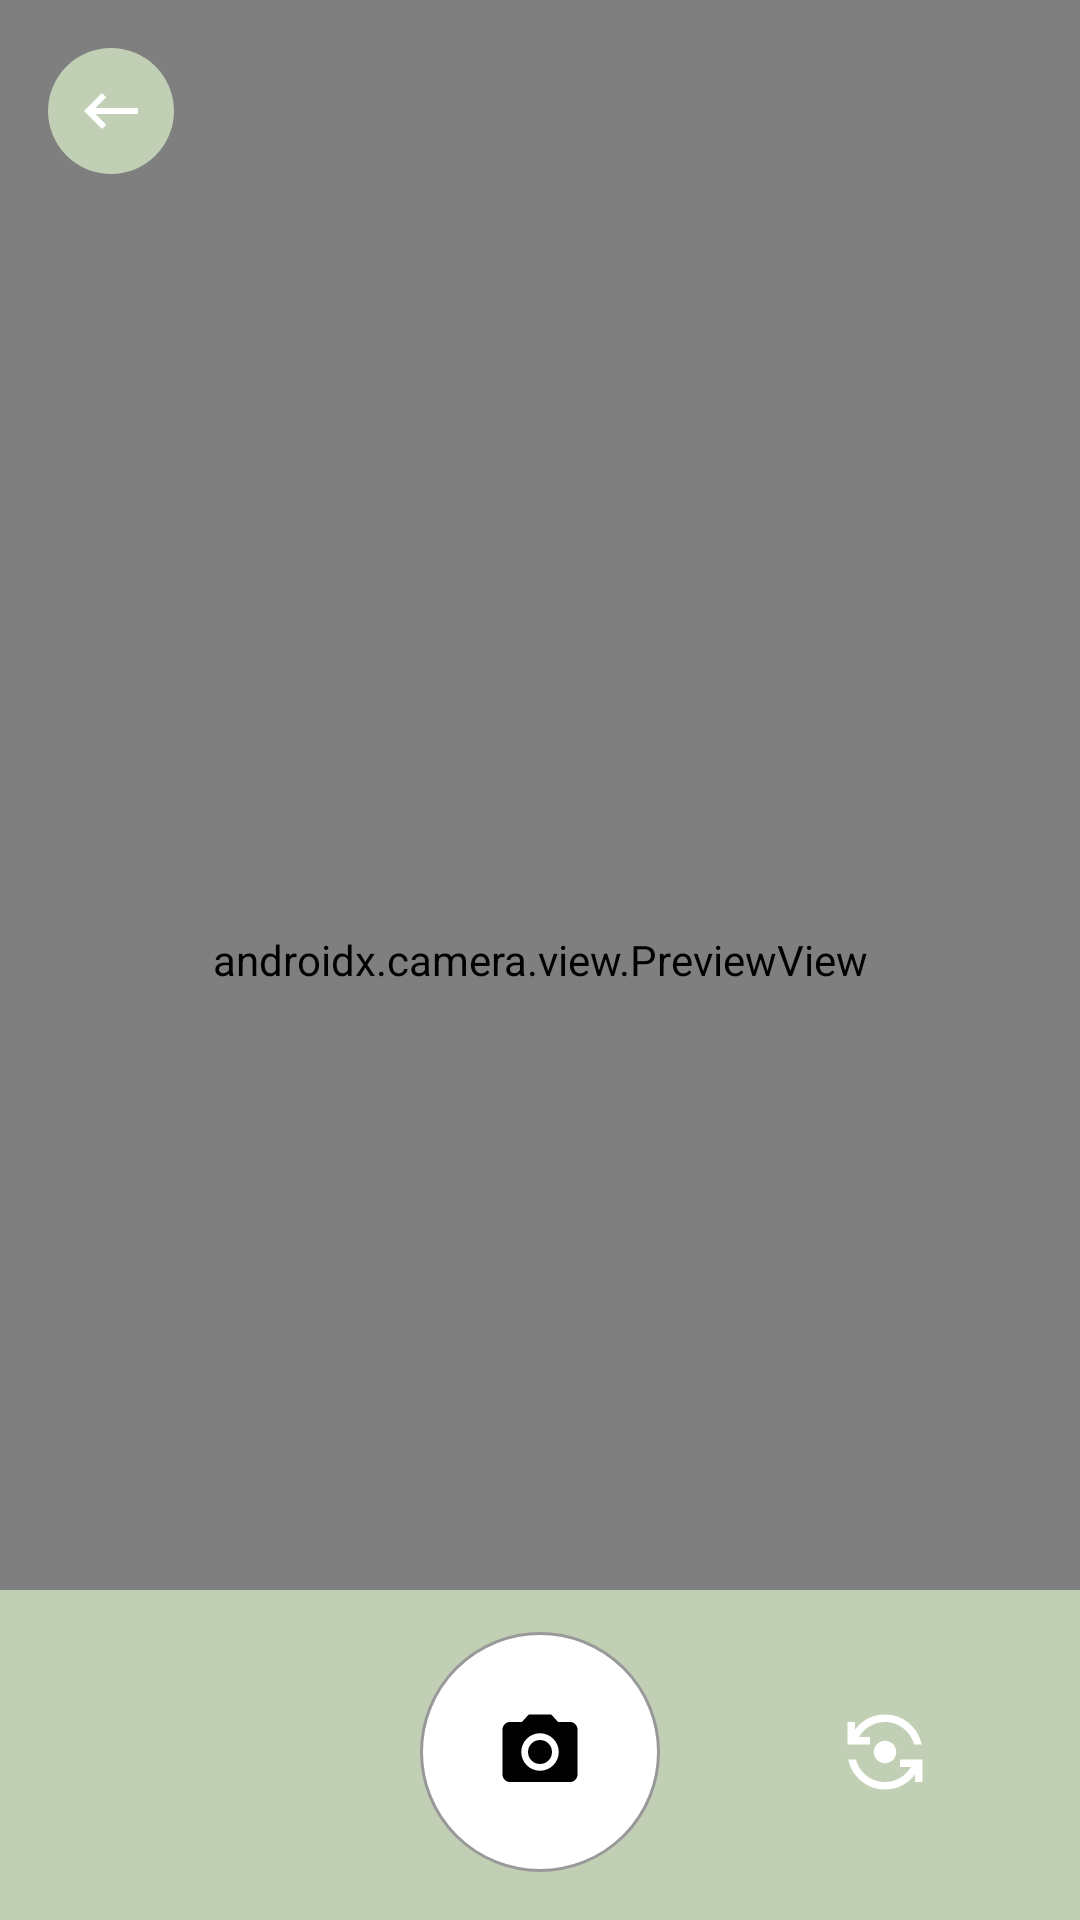

Locate icon controls on the screen. Image size 1080 x 1920, boxes as (x1=x1, y1=y1, x2=x2, y2=y2).
Kembali: (x1=48, y1=48, x2=174, y2=174)
Putar Kamera: (x1=847, y1=1714, x2=923, y2=1790)
Tangkap Gambar: (x1=420, y1=1632, x2=660, y2=1872)
